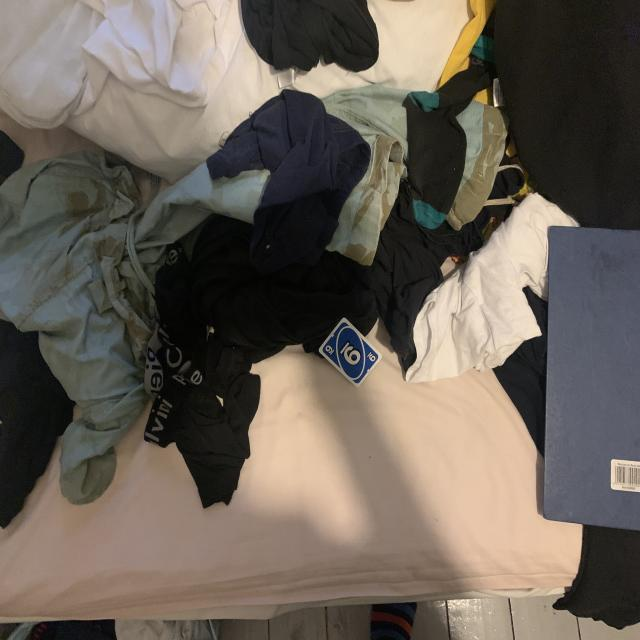lblue-9: (324, 344, 335, 357)
